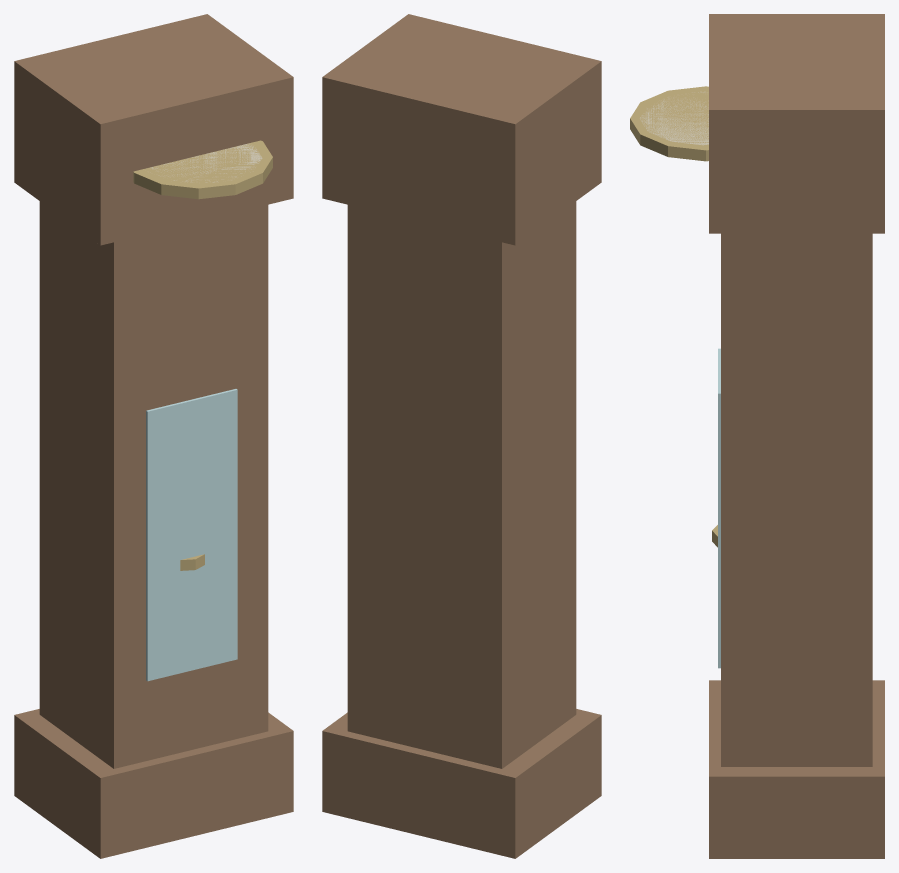
Rendered from haunted_clock_mid.glb.
The picture shows the model from 3 angles, left to right: view 1: azimuth 30°, elevation 25°; view 2: azimuth 150°, elevation 25°; view 3: azimuth 270°, elevation 25°; orthographic projection.
Visible parts, largest first — view 1: Haunted_Clock_Mid; view 2: Haunted_Clock_Mid; view 3: Haunted_Clock_Mid.
Part boxes in pixels (x1,y1,x2,y2): Haunted_Clock_Mid: (14,14,293,858); Haunted_Clock_Mid: (322,14,601,858); Haunted_Clock_Mid: (630,14,884,858).
Size of the model in its own units: 0.75 by 2.72 by 0.84.
